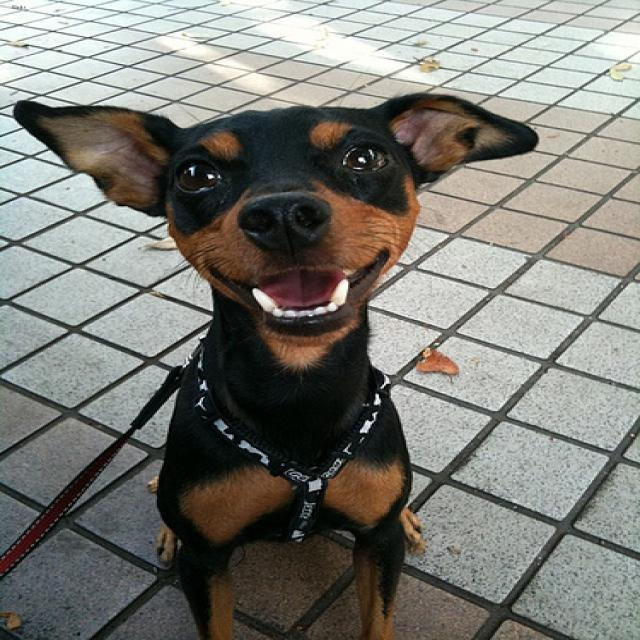dog-miniature_pinscher: (2, 84, 551, 637)
